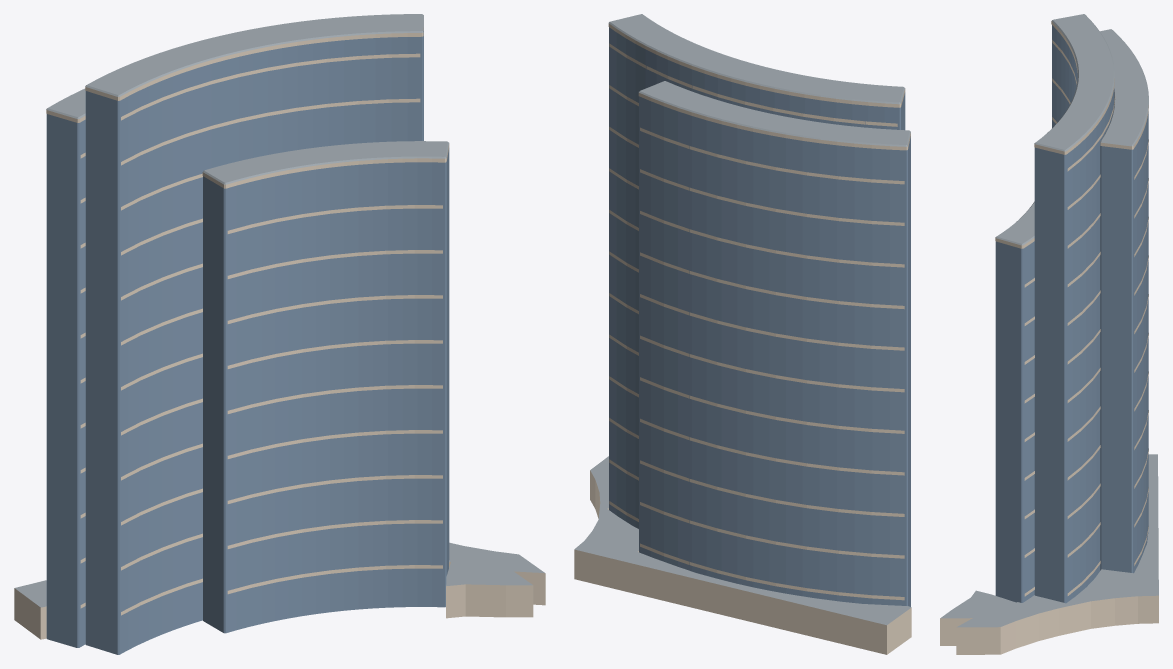
Rendered from detail.glb.
3 views of the same model, side by side, from view 1: azimuth 30°, elevation 25°; view 2: azimuth 150°, elevation 25°; view 3: azimuth 270°, elevation 25° (orthographic). The views are drawn at different scales.
Parts seen in each view (by area): view 1: vdara-hotel-spa; view 2: vdara-hotel-spa; view 3: vdara-hotel-spa.
Boxes of the visible parts, left/top/right/bottom form: vdara-hotel-spa: left=14, top=14, right=545, bottom=654; vdara-hotel-spa: left=574, top=14, right=911, bottom=654; vdara-hotel-spa: left=940, top=14, right=1158, bottom=654.
Size of the model in its own units: 135 by 174 by 71.9.
